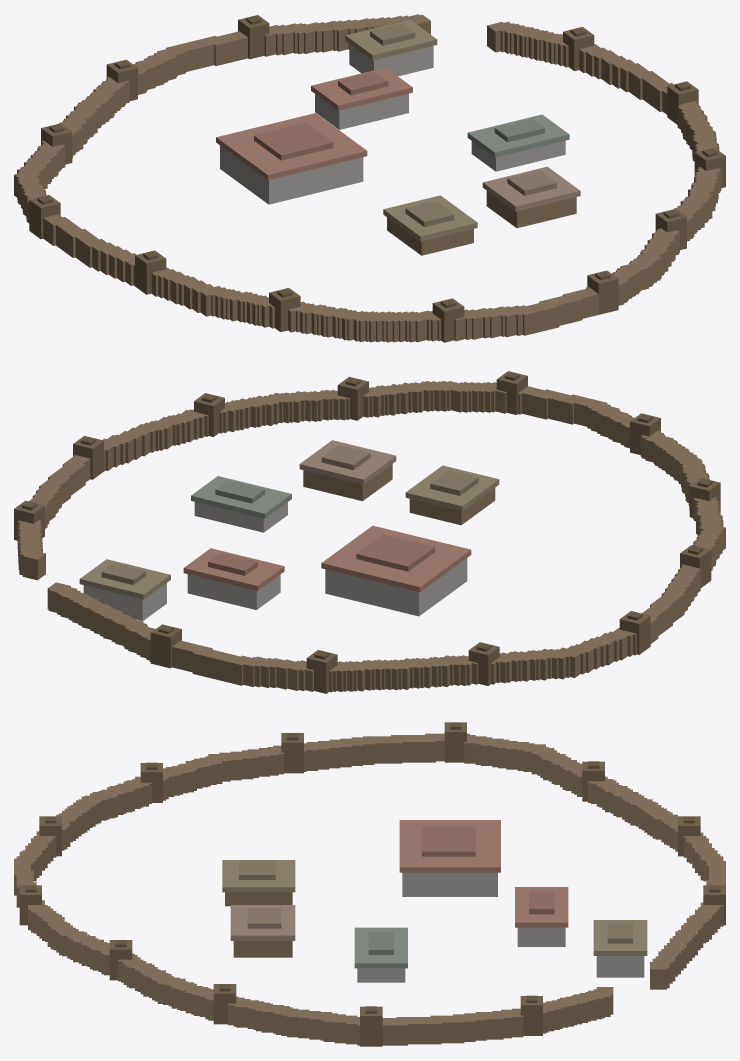
File: ciudad_aldea_maderera_1100_2037_01.glb
The picture shows the model from 3 angles, top to bottom: view 1: azimuth 30°, elevation 25°; view 2: azimuth 150°, elevation 25°; view 3: azimuth 270°, elevation 25°; orthographic projection. The views are drawn at different scales.
Parts seen in each view (by area): view 1: ciudad_aldea_maderera_1100_2037; view 2: ciudad_aldea_maderera_1100_2037; view 3: ciudad_aldea_maderera_1100_2037.
Boxes of the visible parts, left/top/right/bottom form: ciudad_aldea_maderera_1100_2037: left=14, top=14, right=725, bottom=342; ciudad_aldea_maderera_1100_2037: left=14, top=371, right=725, bottom=693; ciudad_aldea_maderera_1100_2037: left=14, top=722, right=725, bottom=1046.
Size of the model in its own units: 61.75 by 3.5 by 63.25.
